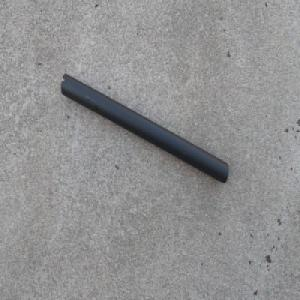LuggagePart: (59, 73, 230, 184)
